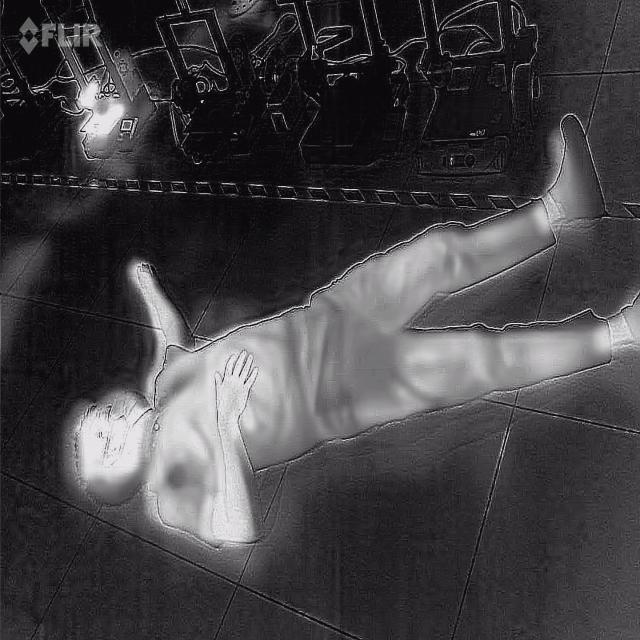Victim: (60, 103, 638, 552)
